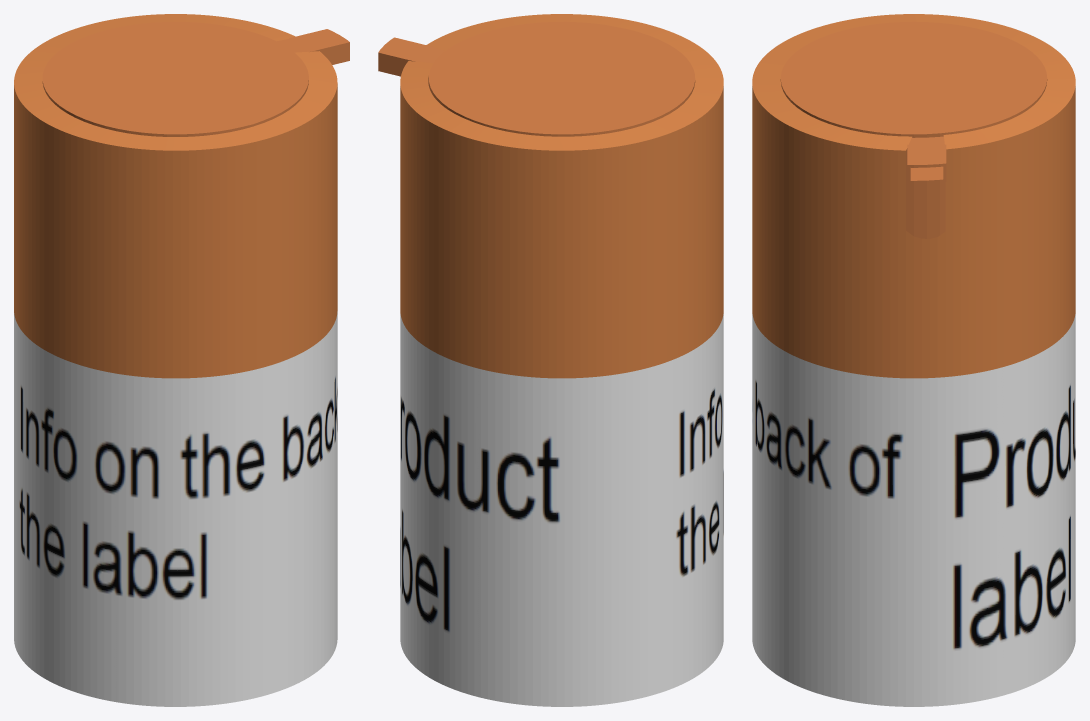
File: product_placeholder_6.glb
3 views of the same model, side by side, from view 1: azimuth 30°, elevation 25°; view 2: azimuth 150°, elevation 25°; view 3: azimuth 270°, elevation 25° (orthographic).
Parts seen in each view (by area): view 1: Cylinder, plunger; view 2: Cylinder, plunger; view 3: Cylinder, plunger.
Part boxes in pixels (x1,y1,x2,y2): Cylinder: [14, 14, 337, 706]; plunger: [42, 21, 349, 136]; Cylinder: [400, 14, 723, 706]; plunger: [378, 21, 695, 136]; Cylinder: [752, 14, 1075, 706]; plunger: [780, 21, 1047, 238].
Bounding box in the file's own units: 2.72 × 4.68 × 2.45.
Materials: 3 (1 with a texture image).
